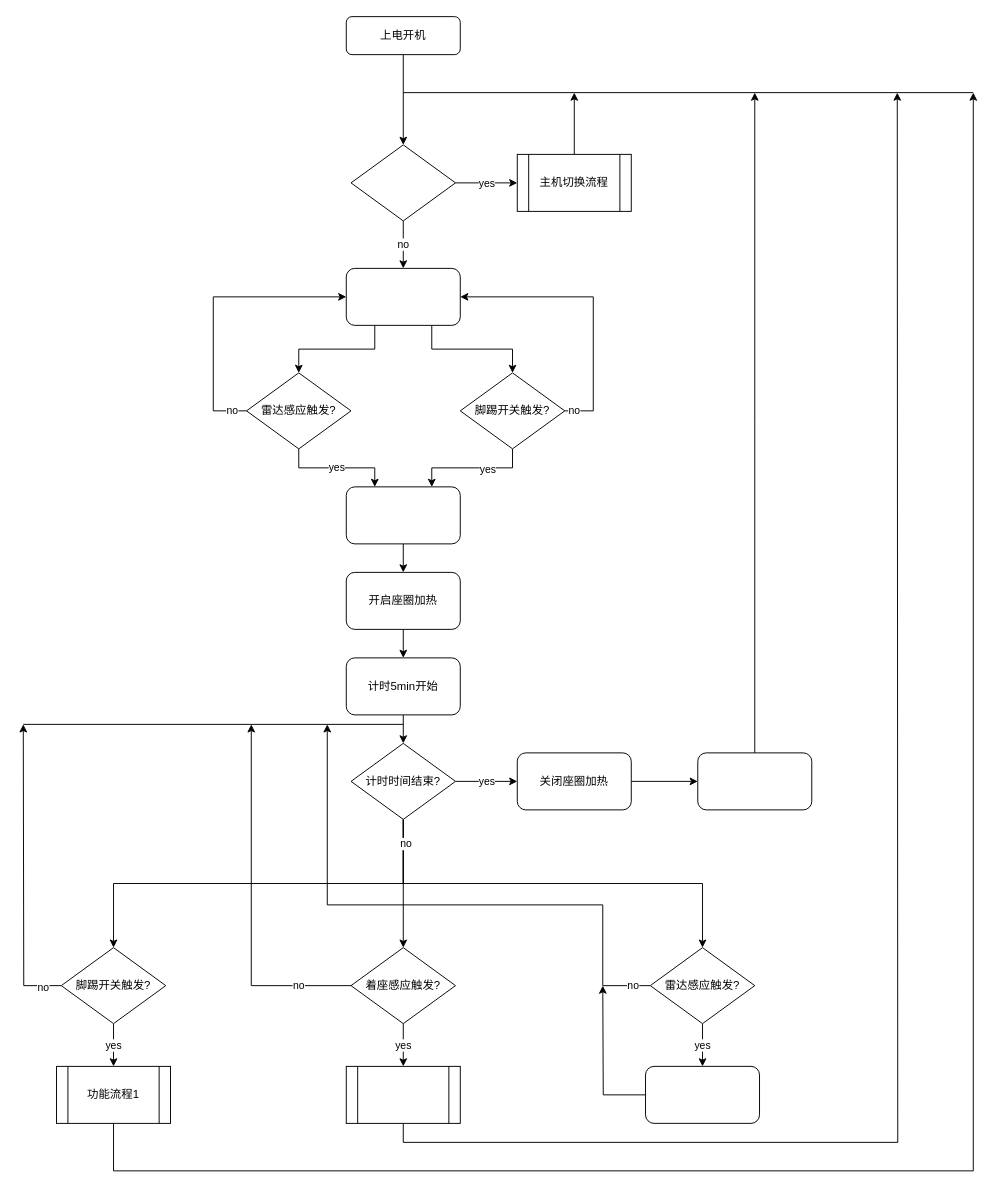
The diagram is 998 pixels wide and 1195 high, and some of its shapes have lost their labels. The box of each missing label's shape, as (x1, y1, x2, y2) in pixels:
上盖合上: (697, 752, 812, 810)
上盖掀起: (345, 486, 460, 544)
人员检测: (345, 267, 460, 325)
功能流程2: (345, 1065, 460, 1123)
计时5min重置: (645, 1065, 760, 1123)
超级主机接入?: (350, 144, 456, 221)
